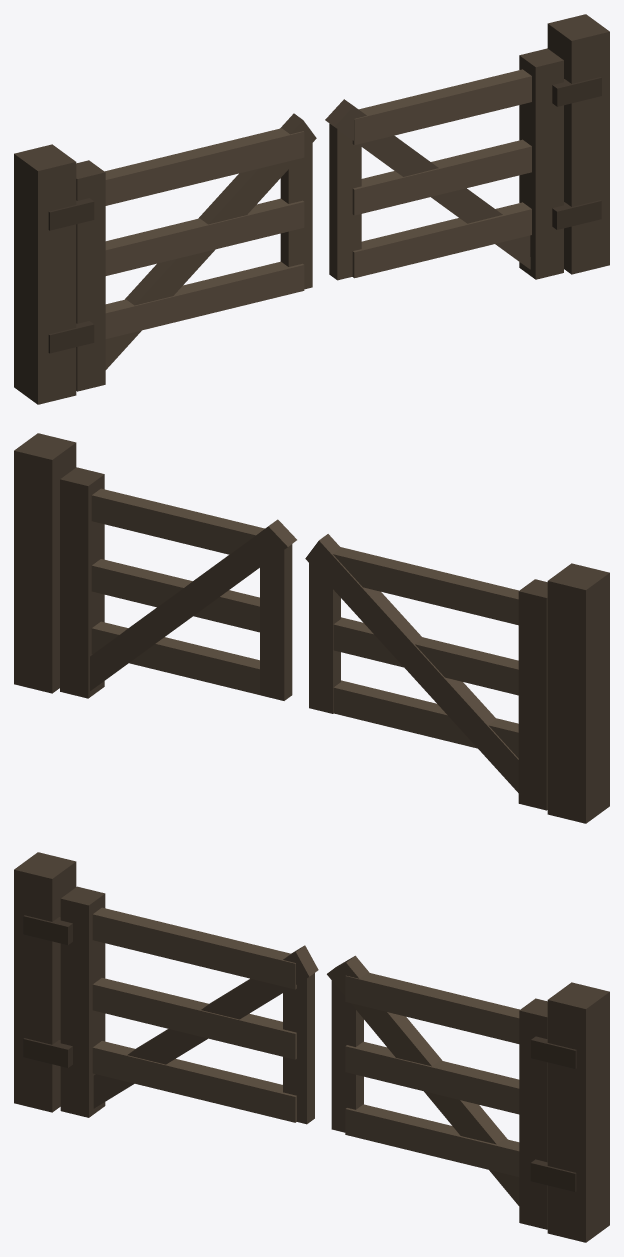
File: updated_gate.fbx
3 views of the same model, one above another, from view 1: azimuth 30°, elevation 25°; view 2: azimuth 150°, elevation 25°; view 3: azimuth 330°, elevation 25° (orthographic).
Parts seen in each view (by area): view 1: polySurface65, polySurface97; view 2: polySurface65, polySurface97; view 3: polySurface65, polySurface97.
Boxes of the visible parts, box(x1,y1,x2,y2) form: polySurface65: box(14, 113, 316, 404); polySurface97: box(325, 14, 609, 280); polySurface65: box(305, 534, 609, 823); polySurface97: box(14, 433, 296, 700); polySurface65: box(14, 852, 318, 1124); polySurface97: box(327, 955, 609, 1242).
Bounding box in the file's own units: 3.24 × 1.27 × 0.247.
